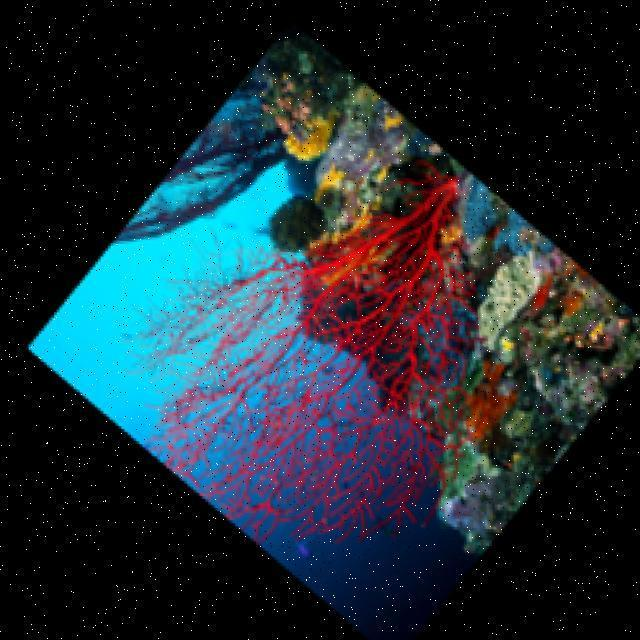Healthy Coral: (166, 175, 479, 537)
